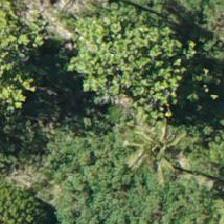coconut_tree: (118, 100, 208, 190)
